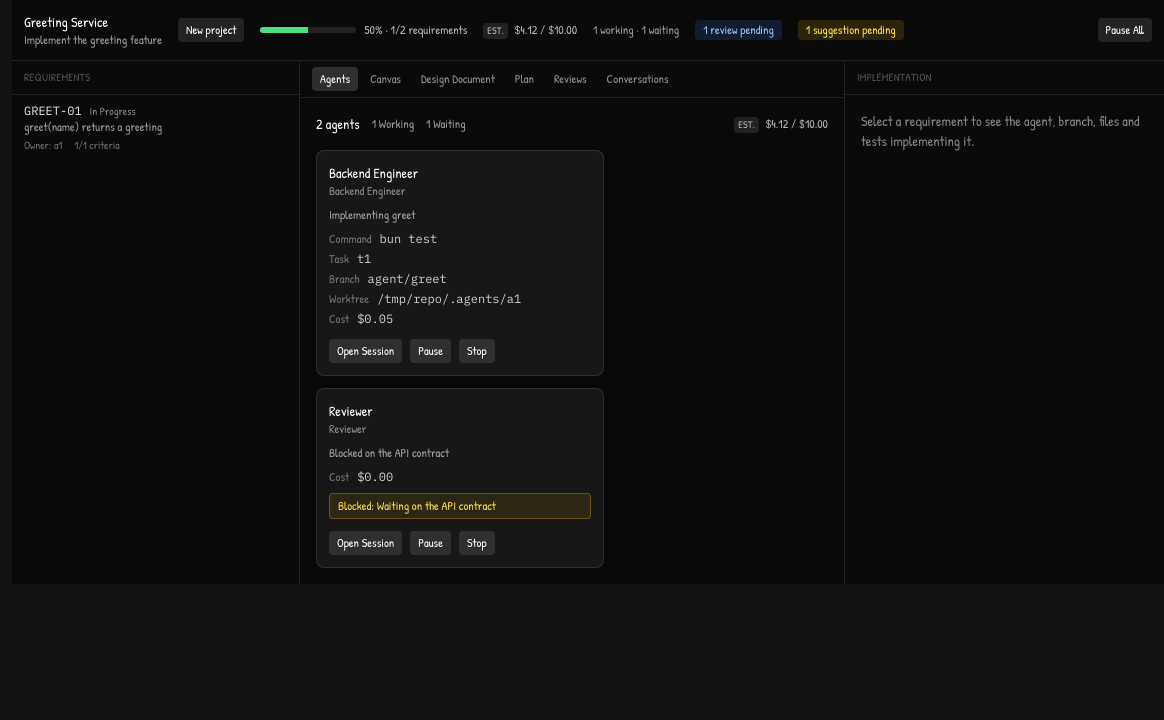
it: §22.17: every checklist row is reachable in the assembled app › the design document renders with its version
Expected: the text with test id "project-name" reads "Greeting Service", x1=24 y1=12 x2=108 y2=31
Click the button with test id "tab-document". click: coordinates (458, 79)
box: x1=413 y1=67 x2=503 y2=91
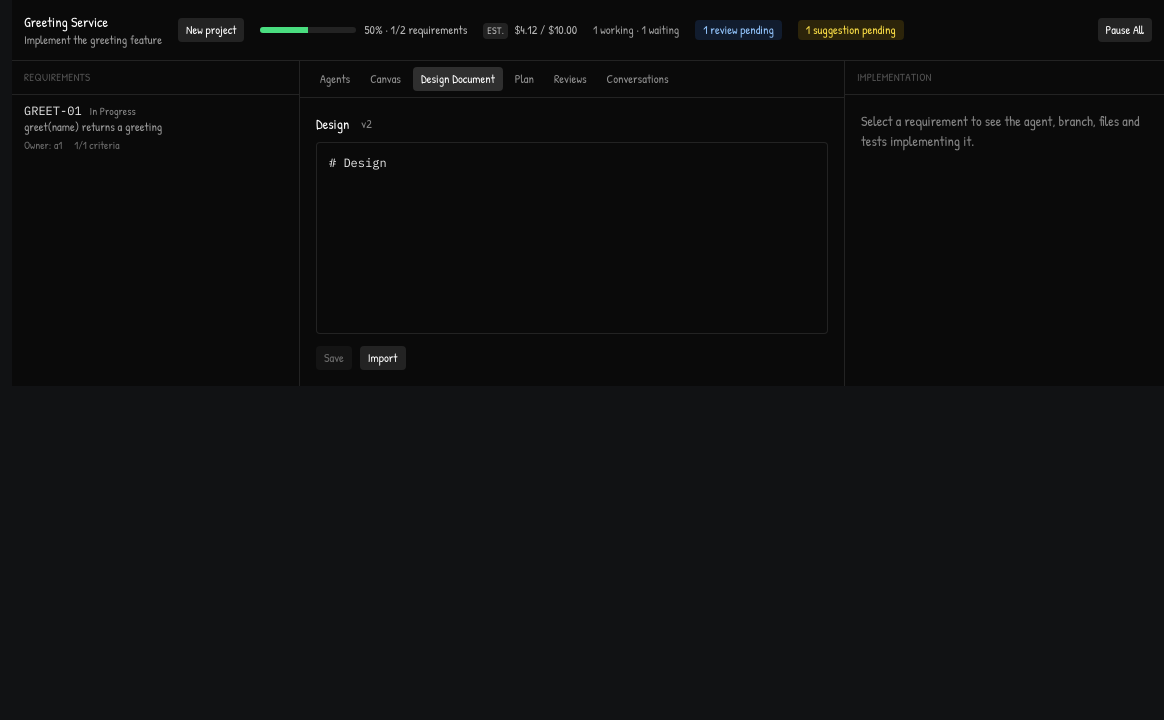
Expected: the element with test id "document-panel" is shown, x1=300 y1=98 x2=844 y2=386
Expected: the text with test id "document-version" shows "2", x1=366 y1=115 x2=372 y2=132
